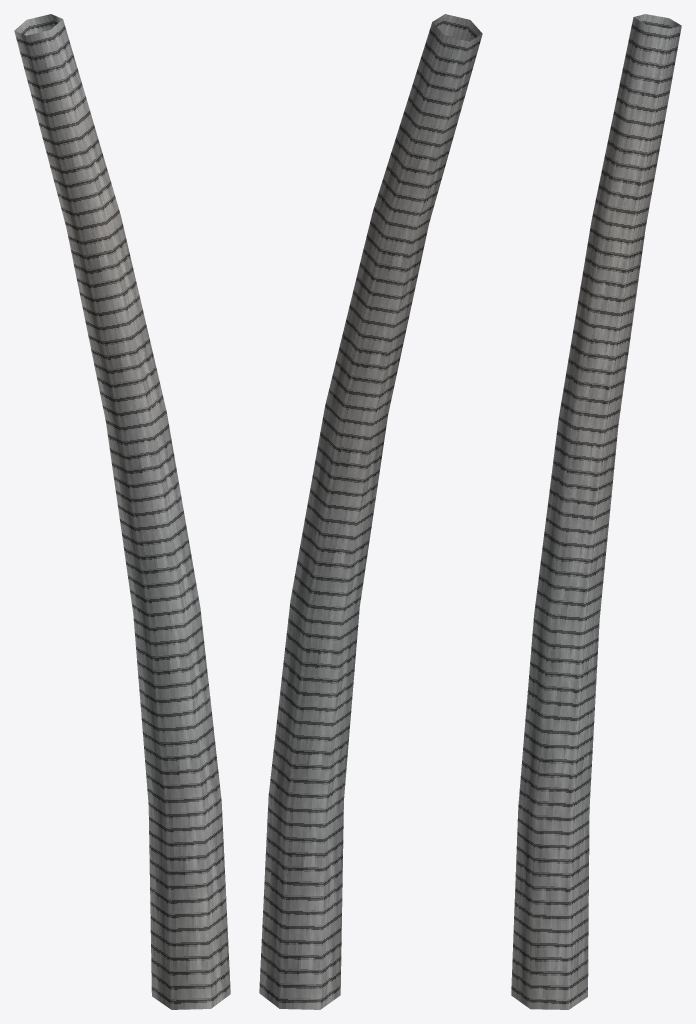
File: palm_bark_l1.gltf
3 views of the same model, side by side, from view 1: azimuth 30°, elevation 25°; view 2: azimuth 210°, elevation 25°; view 3: azimuth 270°, elevation 25° (orthographic). The views are drawn at different scales.
Visible parts, largest first — view 1: palm_bark_l1; view 2: palm_bark_l1; view 3: palm_bark_l1.
Boxes of the visible parts, x1,y1,x2,y2 form: palm_bark_l1: (14,14,230,1009); palm_bark_l1: (259,14,482,1009); palm_bark_l1: (511,14,681,1009).
Bounding box in the file's own units: 1.28 × 8.06 × 1.33.
1 material, 1 textured.
